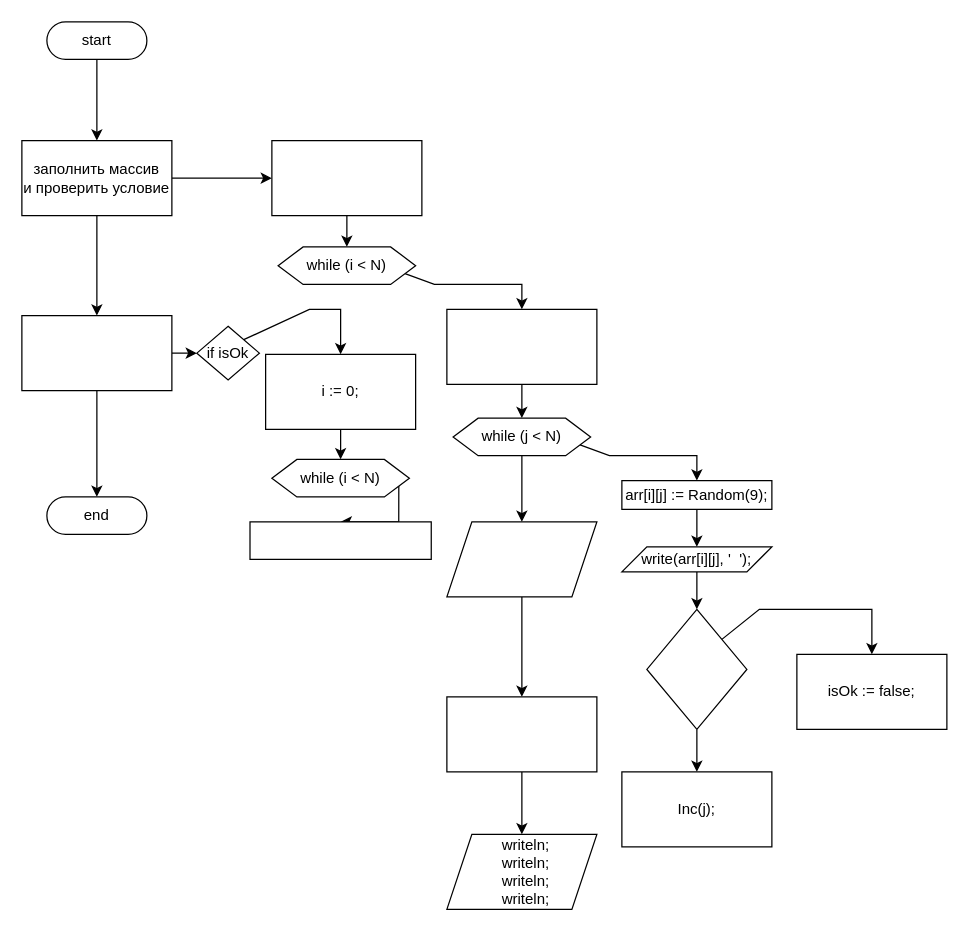
Image size: 969x931. Some labels were removed from this diagram. The centre of each missing label's shape, as x and y in pixels:
((i < j) and (arr[i][j] = 0)): point (696, 668)
BubbleSortWithFlag(arr[i]); j := 0;: point (340, 540)
Inc(i);: point (521, 734)
j := 0;: point (521, 346)
randomize; i := 0; isOk := true;: point (346, 177)
writeln;: point (521, 559)
отсортировать и вывести массив: point (96, 352)
